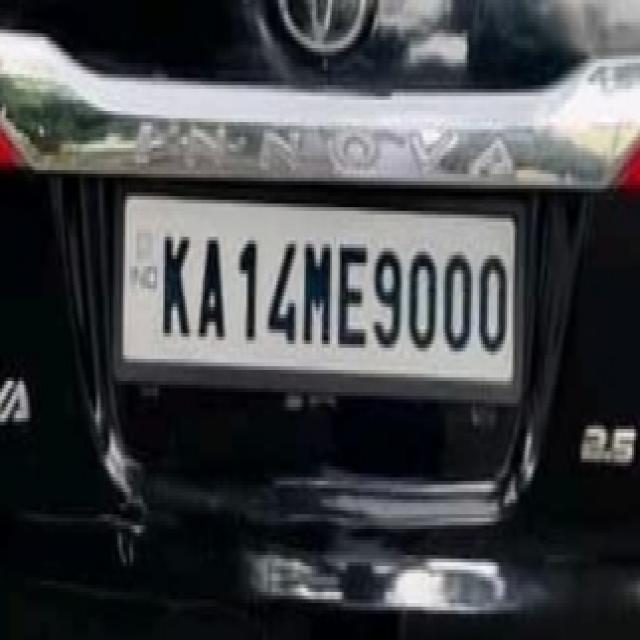0: (475, 245, 511, 356), (438, 249, 475, 356), (405, 238, 438, 352)
1: (232, 224, 264, 352)
4: (266, 228, 300, 350)
9: (376, 231, 402, 360)
A: (194, 221, 230, 346)
E: (336, 222, 369, 357)
K: (154, 217, 196, 341)
M: (302, 225, 338, 347)
